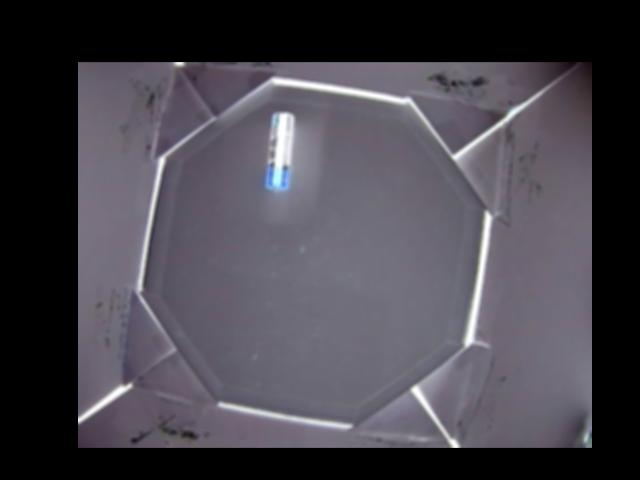Battery: (265, 111, 294, 191)
